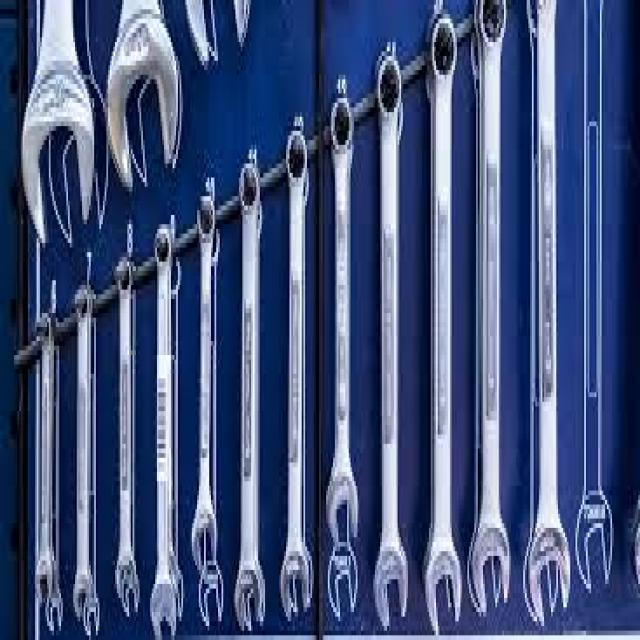wrench: (524, 0, 573, 633), (422, 0, 467, 640), (467, 0, 513, 624), (369, 44, 411, 640), (18, 0, 102, 262), (277, 122, 313, 632), (324, 84, 362, 556), (231, 150, 265, 638), (105, 0, 182, 215), (146, 210, 180, 640), (188, 183, 219, 584), (112, 248, 142, 624), (32, 300, 64, 616), (69, 274, 95, 630)
